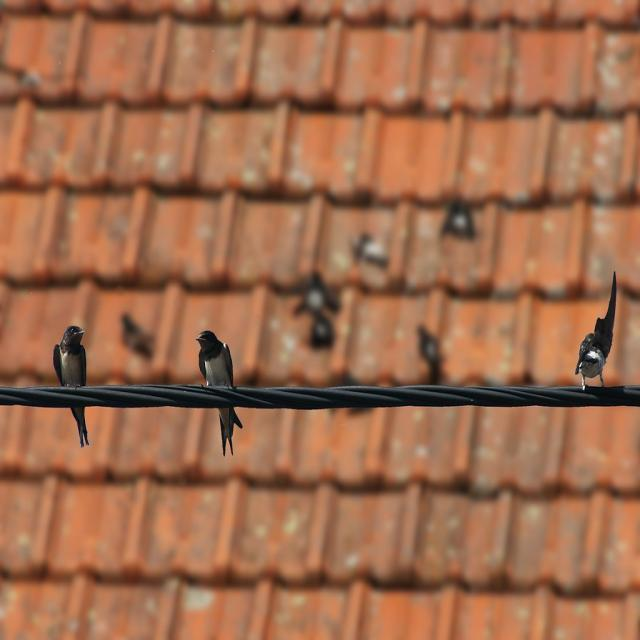bird: (196, 329, 244, 457), (572, 270, 619, 394), (52, 324, 90, 448), (120, 312, 155, 360)
